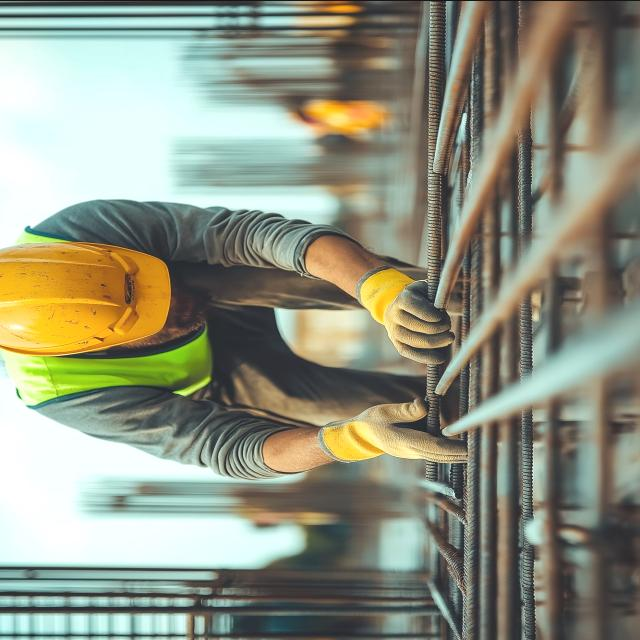Gloves: (344, 258, 458, 373), (312, 397, 474, 473)
Hard Hat: (0, 238, 178, 358)
Reflective Vest: (0, 226, 230, 398)
